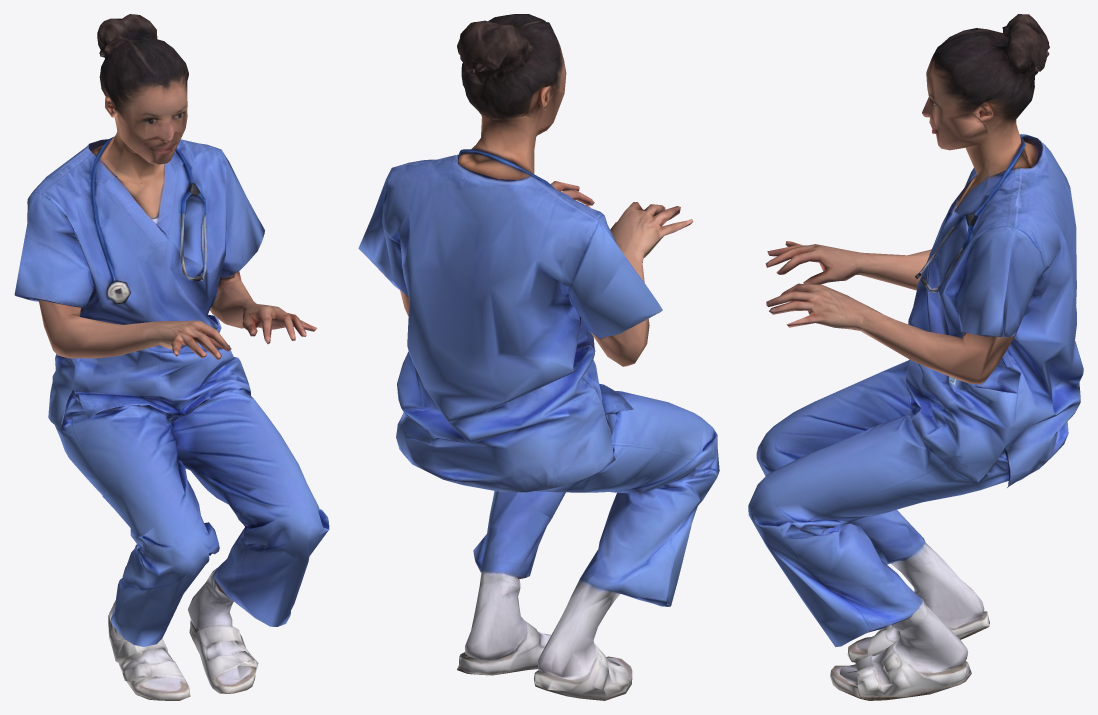
Rendered from seated-scan-5.glb.
3 renders of one model, left to right at view 1: azimuth 30°, elevation 25°; view 2: azimuth 150°, elevation 25°; view 3: azimuth 270°, elevation 25°, orthographic. The views are drawn at different scales.
Visible parts, largest first — view 1: seated-scan-5; view 2: seated-scan-5; view 3: seated-scan-5.
Part boxes in pixels (box(x1,y1,x2,y2)): seated-scan-5: box(14, 14, 329, 700); seated-scan-5: box(358, 14, 719, 700); seated-scan-5: box(748, 14, 1083, 700).
Bounding box in the file's own units: 0.5667 × 1.3 × 0.6059.
Materials: 1 (1 with a texture image).
